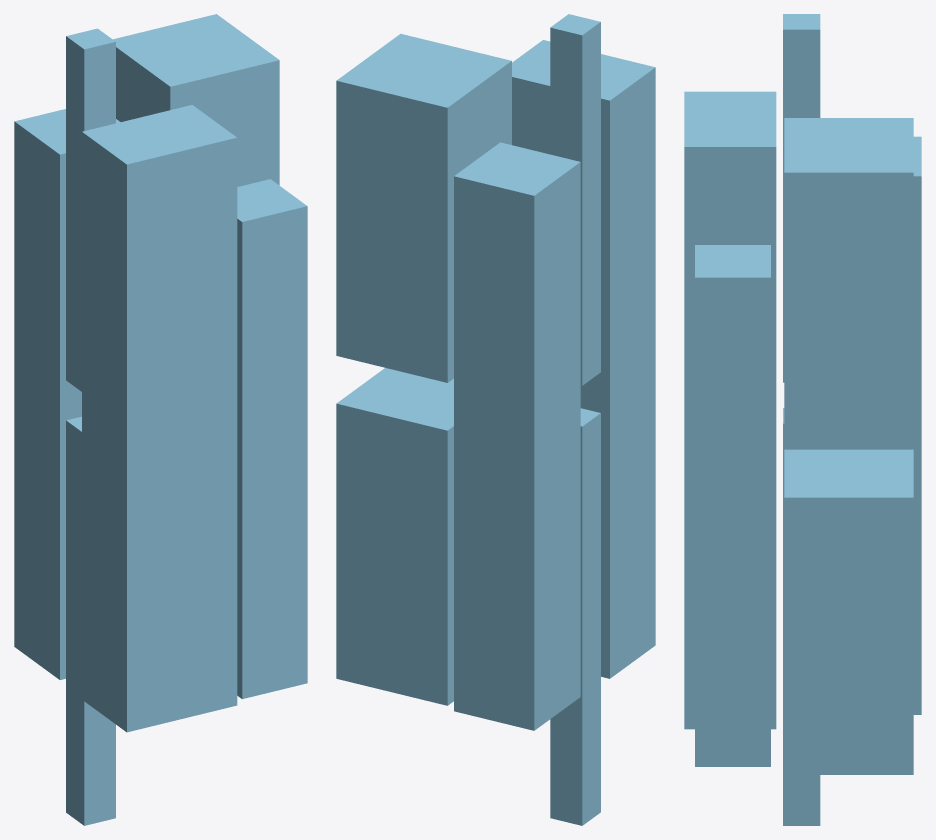
Rendered from wall2.FBX.
The picture shows the model from 3 angles, left to right: view 1: azimuth 30°, elevation 25°; view 2: azimuth 150°, elevation 25°; view 3: azimuth 270°, elevation 25°; orthographic projection. The views are drawn at different scales.
Visible parts, largest first — view 1: Box476; view 2: Box476; view 3: Box476.
Boxes of the visible parts, box(x1,y1,x2,y2) form: Box476: box(14, 14, 307, 825); Box476: box(336, 14, 655, 825); Box476: box(684, 14, 921, 825).
Size of the model in its own units: 36.33 by 134 by 36.13.
